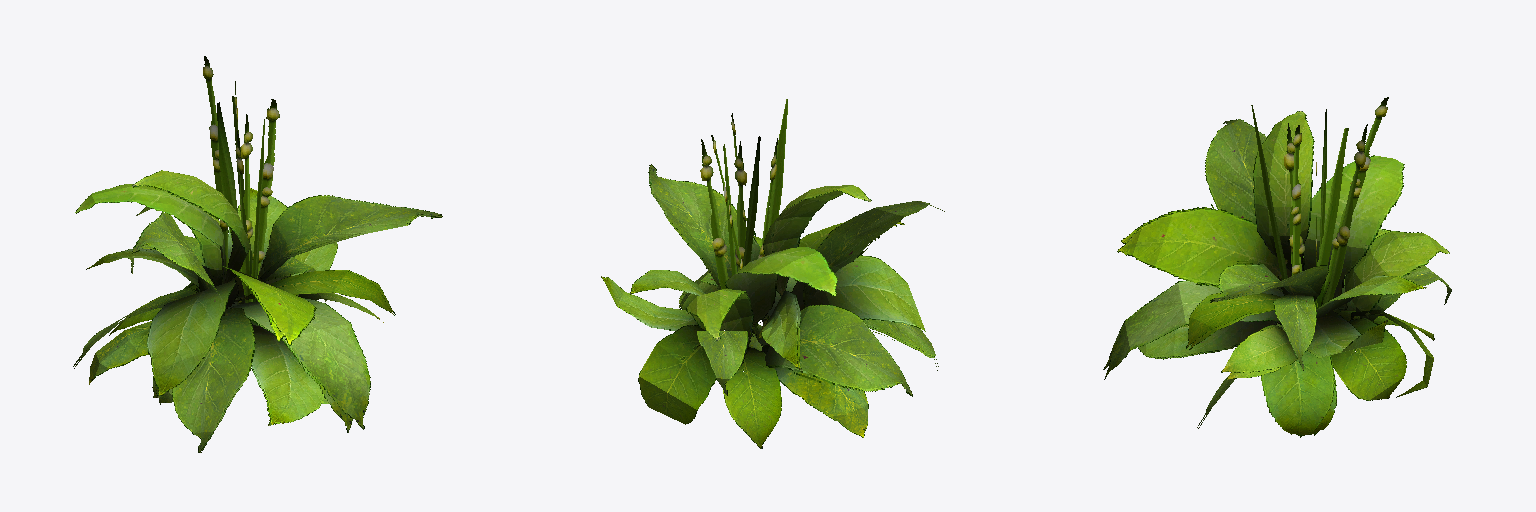
3 renders of one model, left to right at view 1: azimuth 30°, elevation 25°; view 2: azimuth 150°, elevation 25°; view 3: azimuth 270°, elevation 25°, orthographic.
Visible parts, largest first — view 1: bushes04_03; view 2: bushes04_03; view 3: bushes04_03.
Boxes of the visible parts, box(x1,y1,x2,y2) form: bushes04_03: box(73, 56, 442, 452); bushes04_03: box(601, 99, 944, 448); bushes04_03: box(1103, 97, 1451, 437).
Bounding box in the file's own units: 377 × 348 × 355.
Materials: 1 (1 with a texture image).